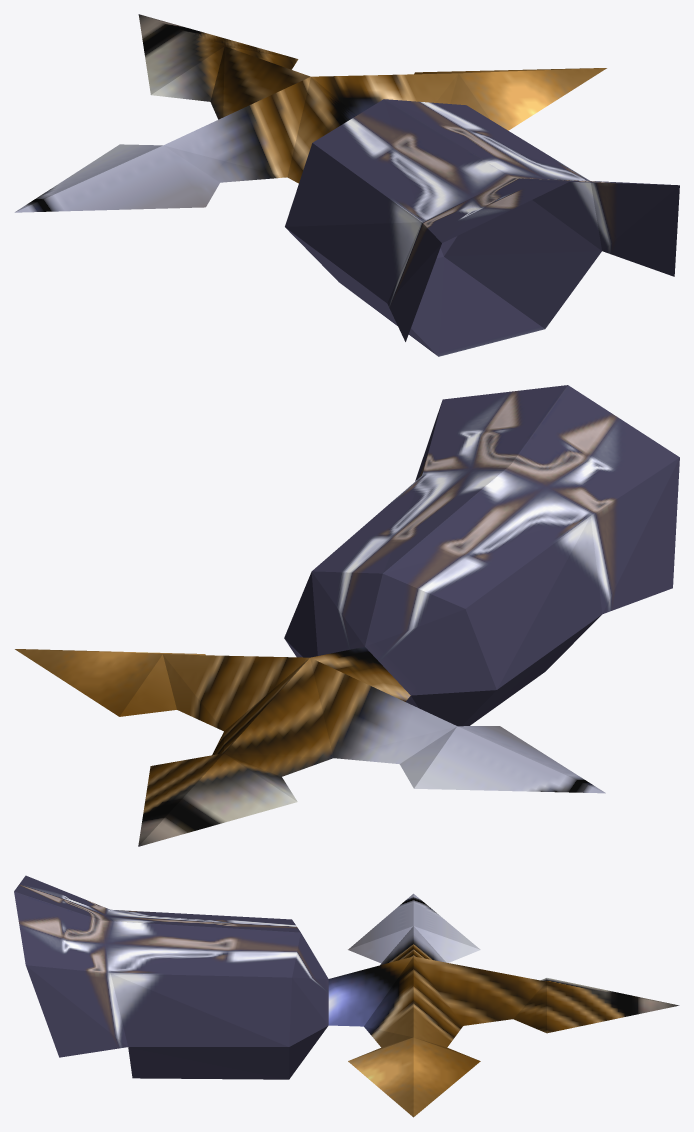
The model's file is twinblade101.obj.
3 renders of one model, top to bottom at view 1: azimuth 30°, elevation 25°; view 2: azimuth 150°, elevation 25°; view 3: azimuth 270°, elevation 25°, orthographic. The views are drawn at different scales.
Parts seen in each view (by area): view 1: MDL_cwdhkn01r; view 2: MDL_cwdhkn01r; view 3: MDL_cwdhkn01r.
Part boxes in pixels (box(x1,y1,x2,y2)): MDL_cwdhkn01r: box(14, 14, 679, 356); MDL_cwdhkn01r: box(15, 385, 679, 846); MDL_cwdhkn01r: box(14, 875, 679, 1117).
Bounding box in the file's own units: 0.4525 × 0.1587 × 0.5687.
